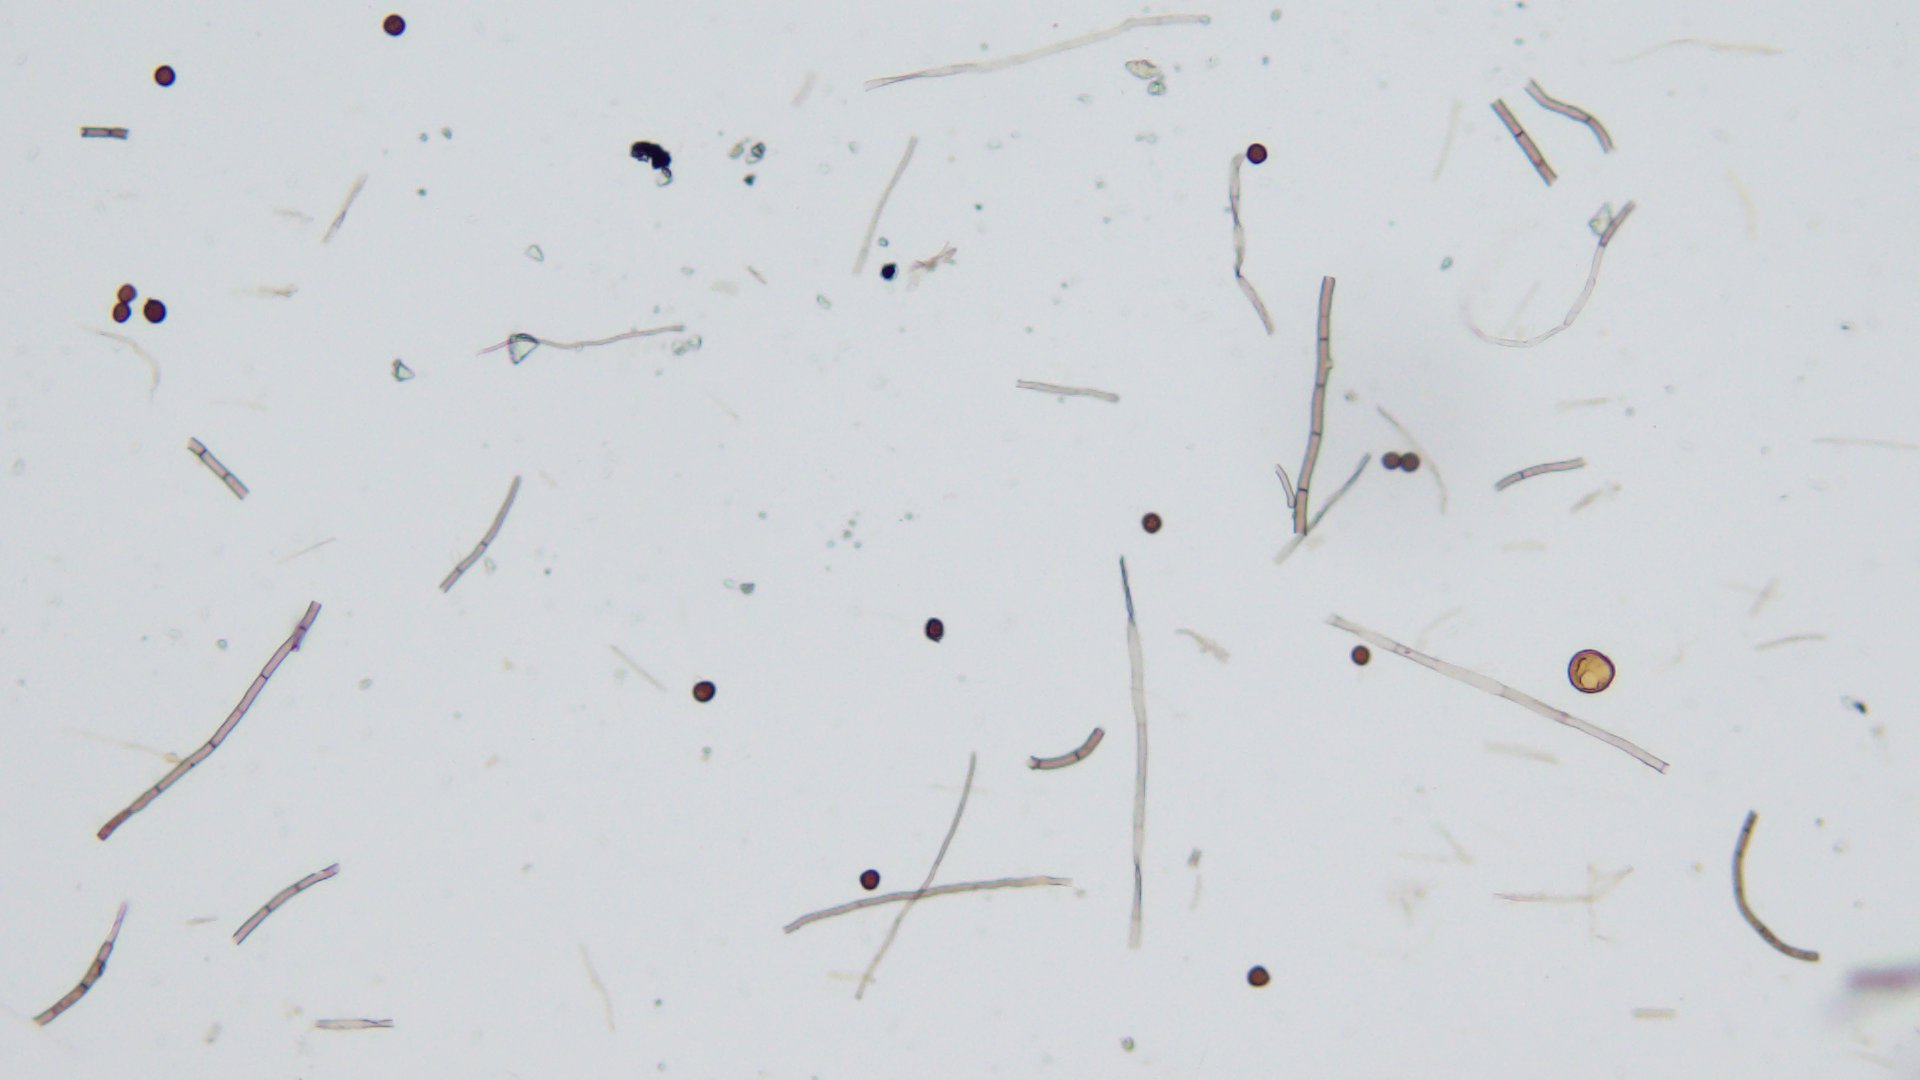shs_spore: (923, 615, 945, 642), (381, 15, 407, 36), (144, 299, 167, 322), (111, 301, 133, 324), (1245, 965, 1270, 986), (694, 679, 716, 702), (154, 65, 175, 87), (1245, 144, 1267, 165), (858, 870, 880, 891), (115, 284, 138, 302), (1400, 452, 1419, 475), (1381, 452, 1400, 472), (1142, 514, 1163, 533), (1352, 647, 1370, 666)
xb_spore: (1567, 649, 1615, 695)
